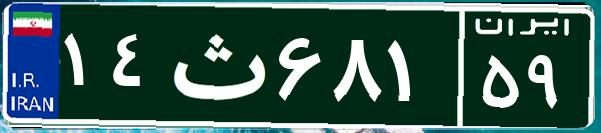1: (385, 28, 445, 110), (57, 26, 110, 107)
4: (110, 28, 158, 105)
5: (475, 38, 525, 113)
6: (273, 28, 330, 110)
8: (330, 28, 385, 110)
9: (525, 38, 570, 115)
ث: (158, 15, 273, 115)
